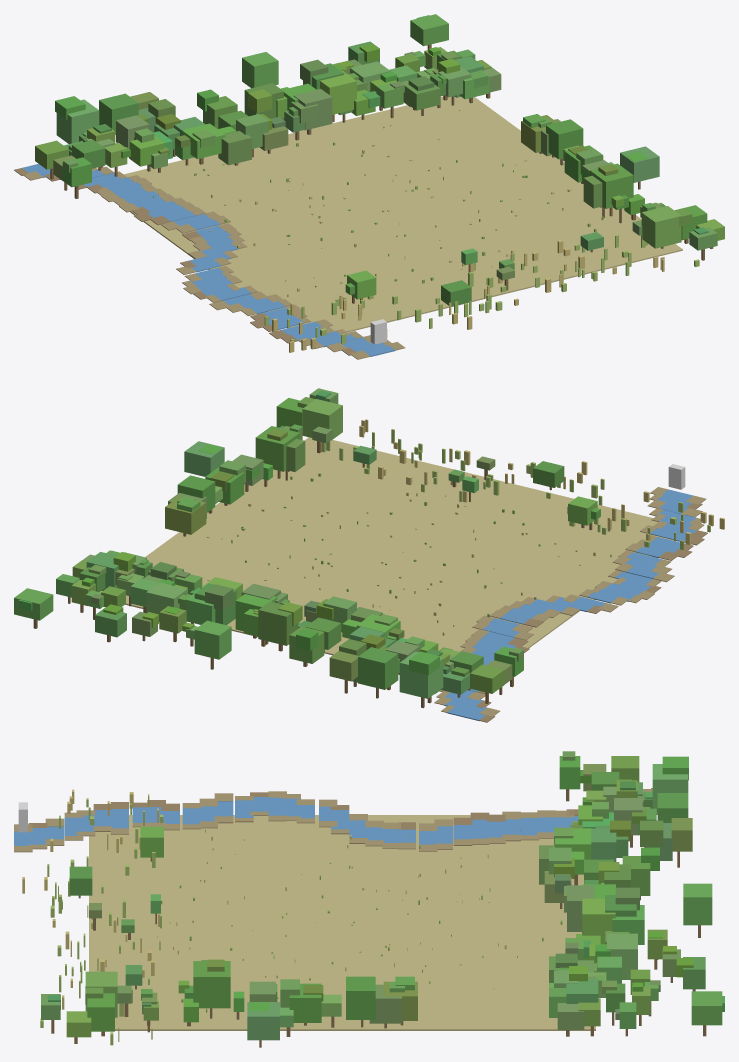
Rendered from city_map_original.glb.
3 renders of one model, top to bottom at view 1: azimuth 30°, elevation 25°; view 2: azimuth 150°, elevation 25°; view 3: azimuth 270°, elevation 25°, orthographic. The views are drawn at different scales.
Parts seen in each view (by area): view 1: Ground-col, crown_70, crown_7, crown_37, crown_86, crown_38, crown_78, crown_16, crown_67, crown_81, crown_23, crown_35 (+15 smaller); view 2: Ground-col, crown_16, crown_31, crown_70, crown_7, crown_37, crown_78, crown_88, crown_81, crown_67, crown_48, crown_2 (+18 smaller); view 3: Ground-col, crown_78, crown_86, crown_37, crown_81, crown_67, crown_38, crown_48, crown_84, crown_71, crown_7, crown_35 (+26 smaller).
Part boxes in pixels (x1,y1,x2,y2): Ground-col: (124, 96, 682, 332); crown_70: (641, 206, 681, 248); crown_7: (56, 99, 99, 143); crown_37: (242, 52, 278, 88); crown_86: (546, 119, 583, 159); crown_38: (320, 70, 356, 114); crown_78: (590, 163, 633, 208); crown_16: (99, 93, 138, 134); crown_67: (410, 14, 448, 46); crown_81: (620, 146, 659, 182); crown_23: (218, 131, 251, 165); crown_35: (293, 89, 332, 130); Ground-col: (100, 437, 673, 655); crown_16: (358, 647, 398, 689); crown_31: (258, 601, 298, 645); crown_70: (302, 399, 342, 440); crown_7: (399, 651, 443, 698); crown_37: (194, 620, 231, 659); crown_78: (255, 426, 299, 471); crown_88: (165, 496, 206, 534); crown_81: (184, 441, 224, 476); crown_67: (14, 588, 53, 620); crown_48: (146, 582, 187, 621); crown_2: (470, 664, 504, 693); Ground-col: (89, 815, 595, 1030); crown_78: (193, 961, 230, 1008); crown_86: (346, 976, 375, 1019); crown_37: (683, 883, 712, 925); crown_81: (247, 1002, 279, 1040); crown_67: (691, 991, 722, 1025); crown_38: (582, 898, 615, 944); crown_48: (607, 933, 637, 979); crown_84: (289, 983, 321, 1022); crown_71: (87, 993, 114, 1031); crown_7: (652, 764, 688, 813); crown_35: (567, 885, 593, 931).
Size of what is drawn, in the model's own units: 74.39 by 8.08 by 84.12.
